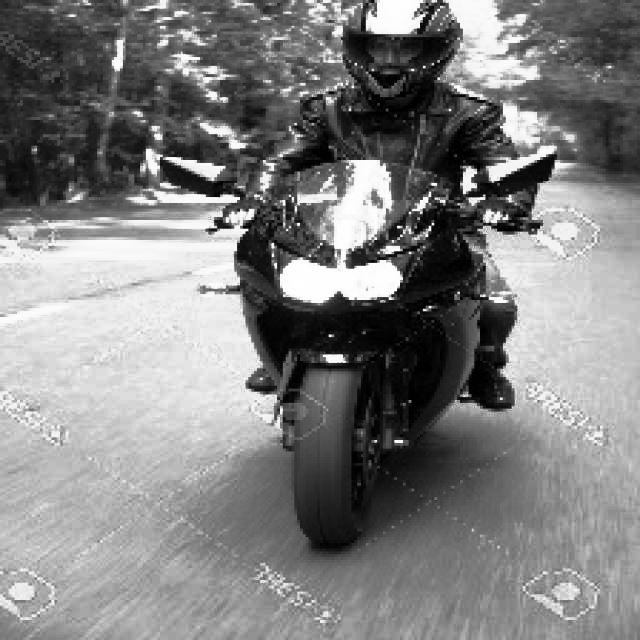Bike: (221, 162, 497, 534)
